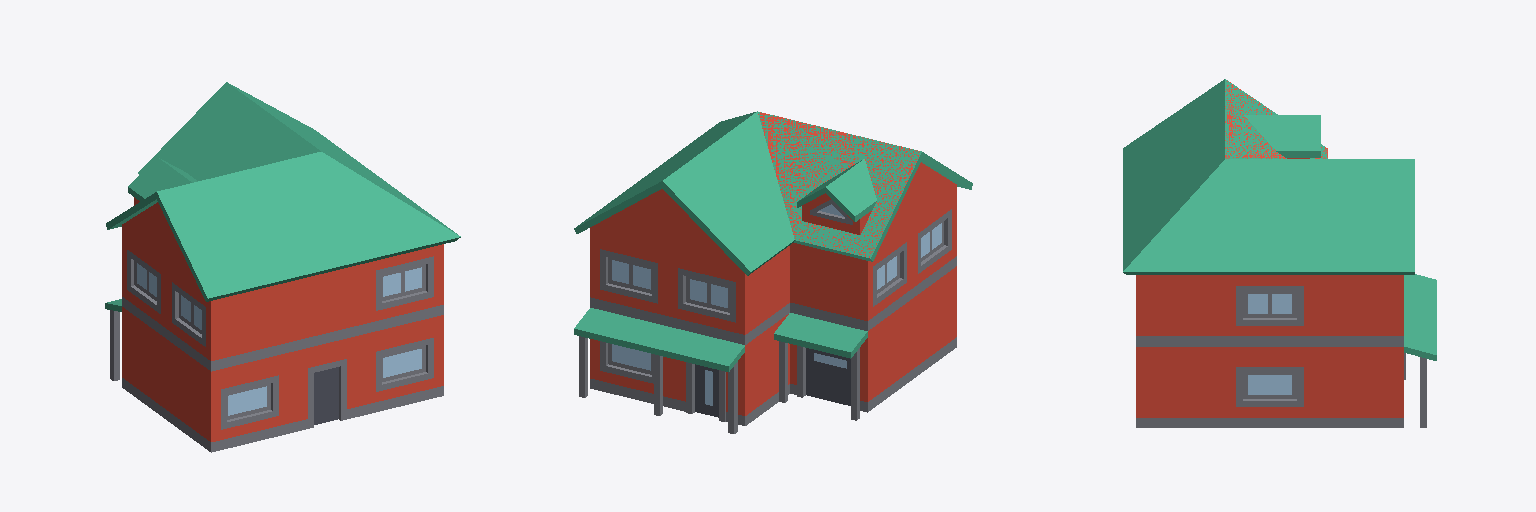
The model's file is city_house_a.obj.
The picture shows the model from 3 angles: view 1: azimuth 30°, elevation 25°; view 2: azimuth 150°, elevation 25°; view 3: azimuth 270°, elevation 25°; orthographic projection.
Parts seen in each view (by area): view 1: mergedBlocks; view 2: mergedBlocks; view 3: mergedBlocks.
Boxes of the visible parts, x1,y1,x2,y2 form: mergedBlocks: [105, 82, 460, 452]; mergedBlocks: [574, 111, 972, 433]; mergedBlocks: [1123, 79, 1436, 427].
Bounding box in the file's own units: 0.8371 × 0.728 × 0.8998.